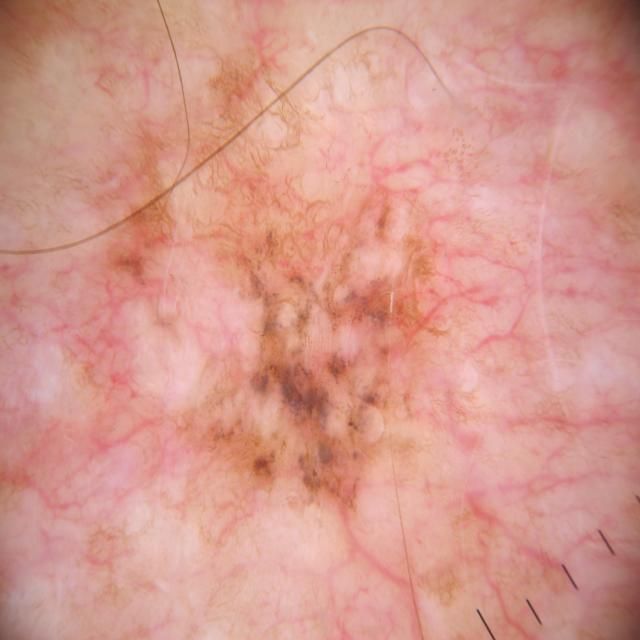Skin-Cancer Melanoma: (2, 0, 592, 640)
